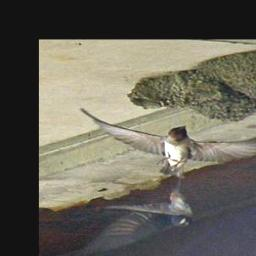Swallow: (76, 106, 256, 181)
